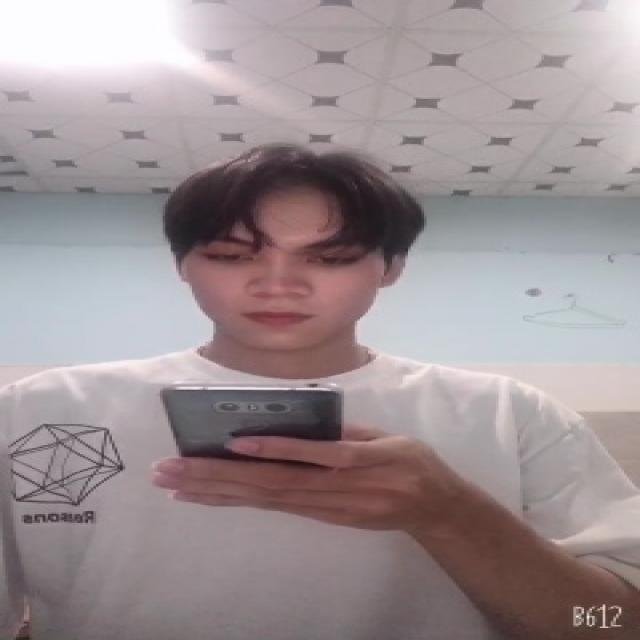Phone: (155, 382, 352, 464)
